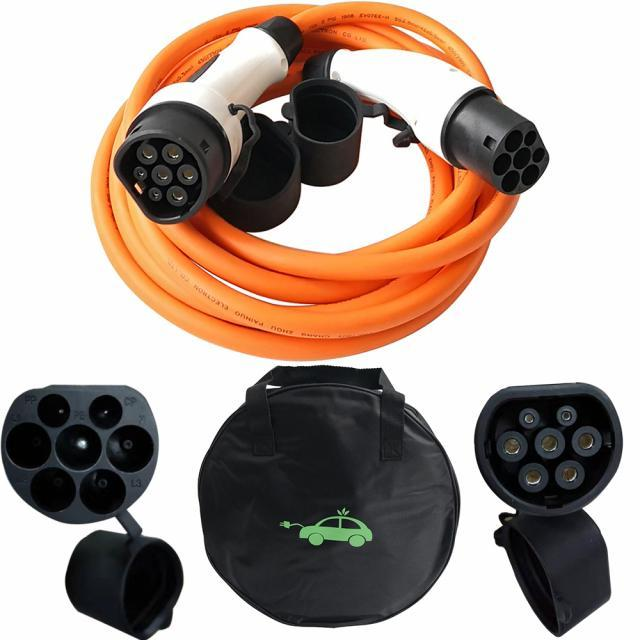Type 2: (3, 379, 181, 533), (472, 382, 630, 522)
